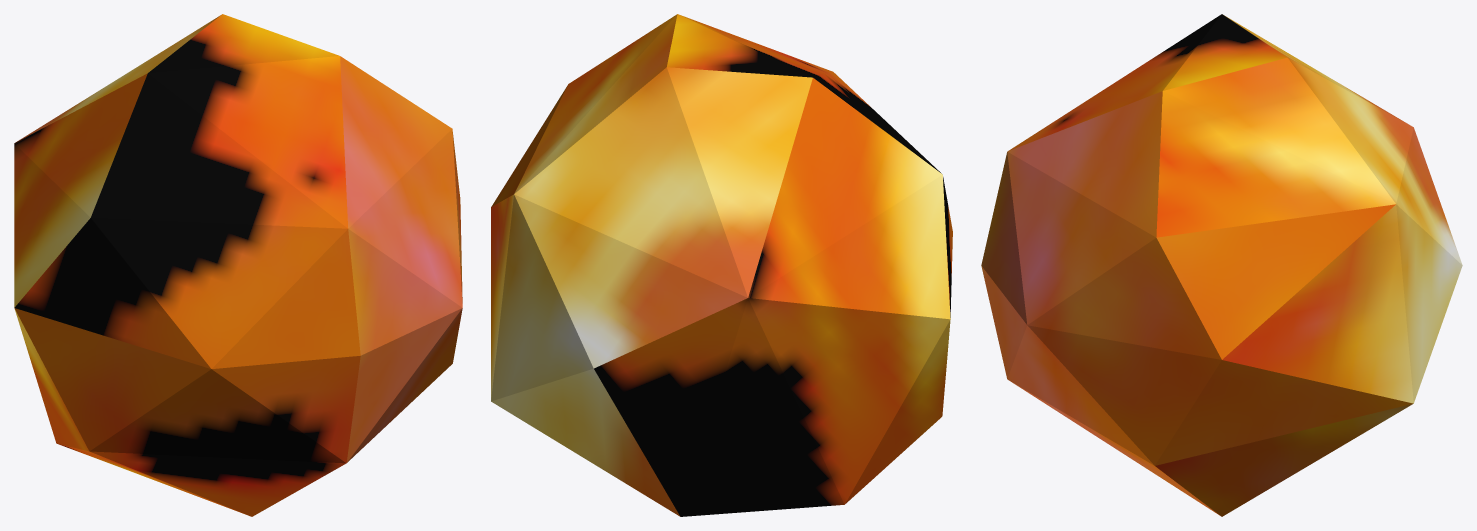
File: Fireball.fbx
3 views of the same model, side by side, from view 1: azimuth 30°, elevation 25°; view 2: azimuth 150°, elevation 25°; view 3: azimuth 270°, elevation 25° (orthographic). The views are drawn at different scales.
Parts seen in each view (by area): view 1: Icosphere; view 2: Icosphere; view 3: Icosphere.
Part boxes in pixels (x1,y1,x2,y2): Icosphere: (14, 14, 462, 516); Icosphere: (491, 14, 952, 516); Icosphere: (981, 14, 1462, 516).
Bounding box in the file's own units: 209 × 199 × 200.
